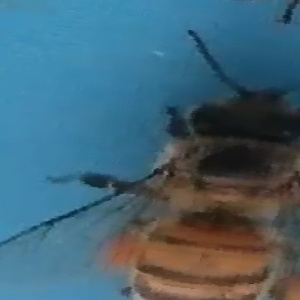bee: (58, 37, 298, 300)
